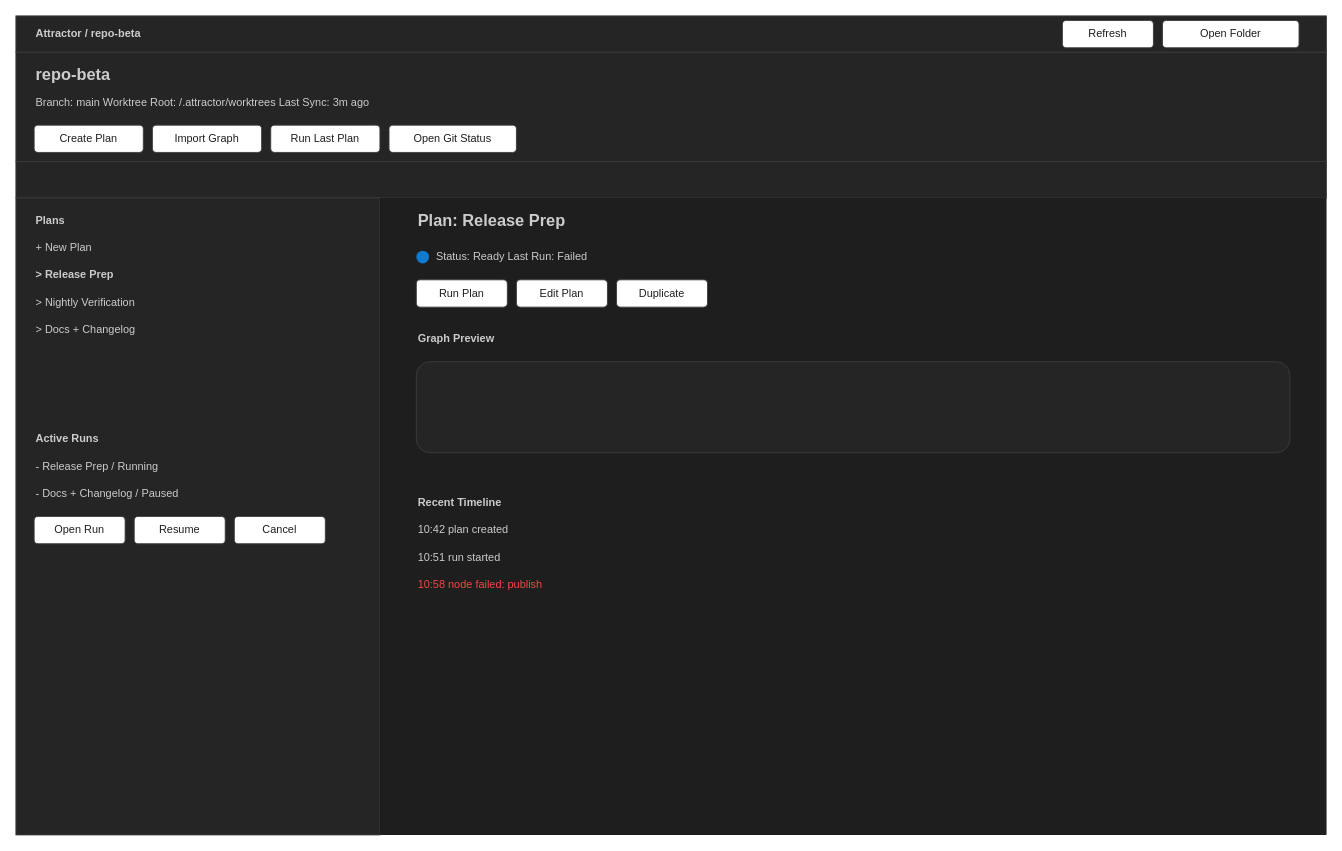
The diagram is 1342 pixels wide and 851 high, and some of its shapes have lost their labels. The shapes that lost their labels are listed below. From the top down, each one's box as (x1, y1, x2, y2) in pixels, then its label:
(15, 161, 1326, 198): Tabs: [Plans] [Runs] [Artifacts] [History]
(415, 361, 1290, 453): start -> verify -> docs -> package -> publish
